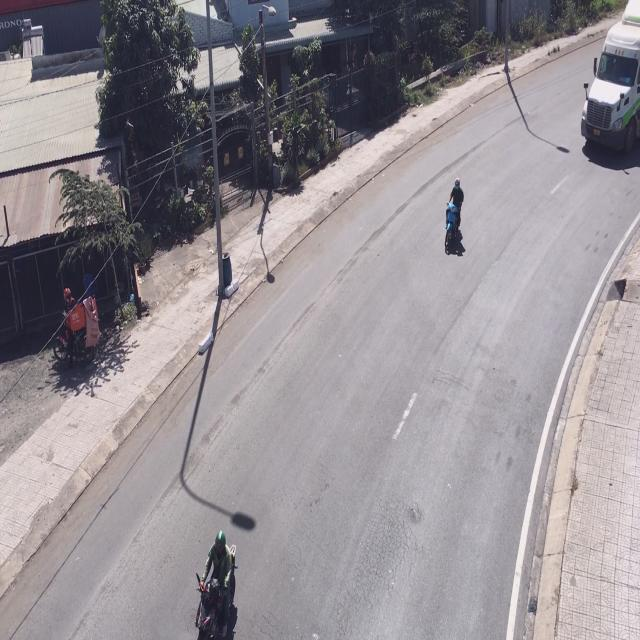motorbike: (197, 526, 240, 639), (440, 178, 465, 256)
truck: (579, 1, 638, 161)
